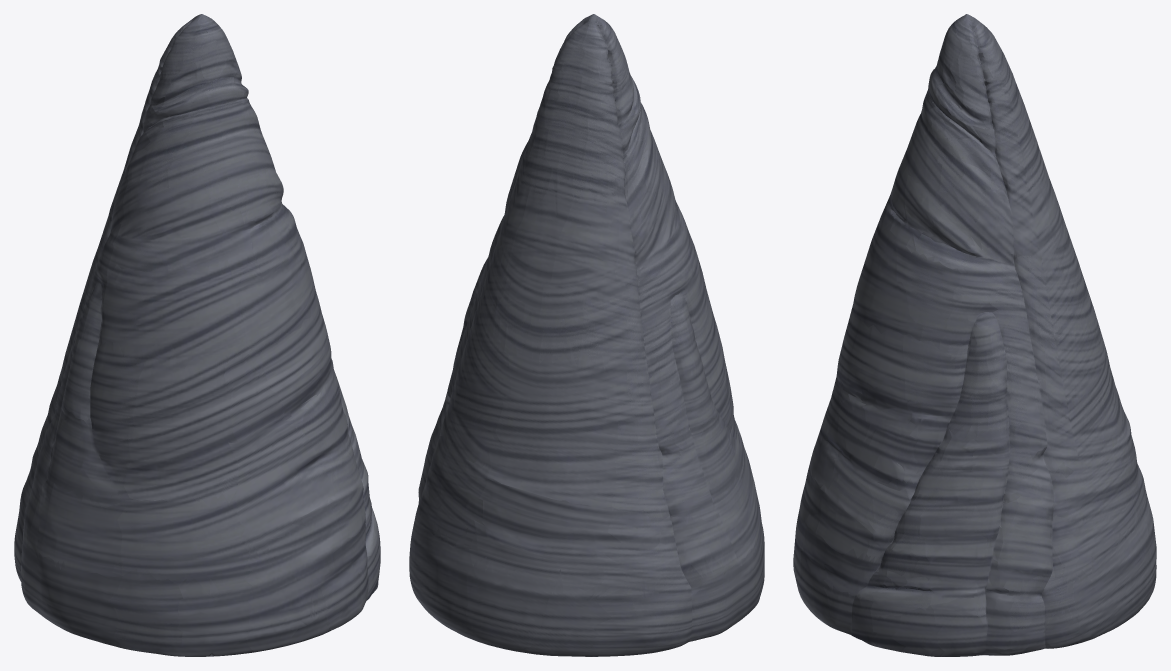
Rendered from lothtemple.glb.
3 renders of one model, left to right at view 1: azimuth 30°, elevation 25°; view 2: azimuth 150°, elevation 25°; view 3: azimuth 270°, elevation 25°, orthographic.
Parts seen in each view (by area): view 1: lothtemple; view 2: lothtemple; view 3: lothtemple.
Boxes of the visible parts, x1,y1,x2,y2 form: lothtemple: (14, 14, 380, 656); lothtemple: (409, 14, 764, 656); lothtemple: (793, 14, 1156, 656).
Bounding box in the file's own units: 40.48 × 70 × 40.53.
Materials: 1 (1 with a texture image).
